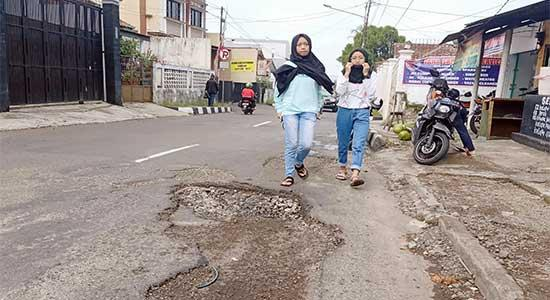Pothole: (134, 157, 335, 300), (373, 157, 550, 300)
